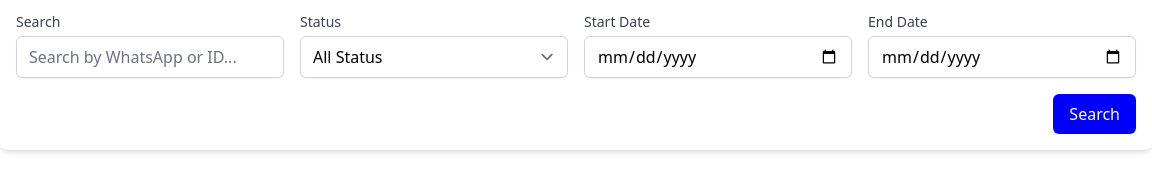
Test case: TransactionFilters Component › adjusts end date if start date is later
This screenshot has width=1152, height=171.
Type "2025-01-15" into the date field labelled "End Date".
click(1002, 57); type("2025-01-15")  # box top-left (868, 36), bottom-right (1136, 78)
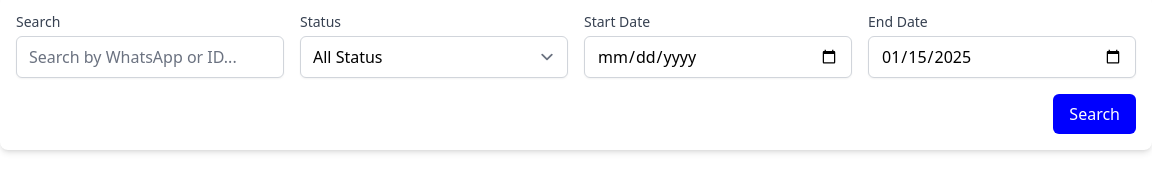
Type "2025-01-20" into the date field labelled "Start Date".
click(718, 57); type("2025-01-20")  # box top-left (584, 36), bottom-right (852, 78)
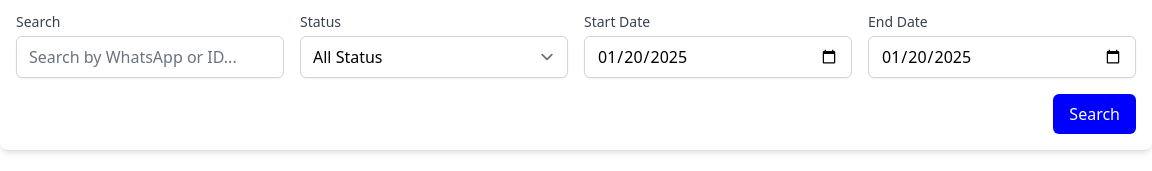
Expected: the date field labelled "End Date" holds "2025-01-20", top-left (868, 36), bottom-right (1136, 78)
